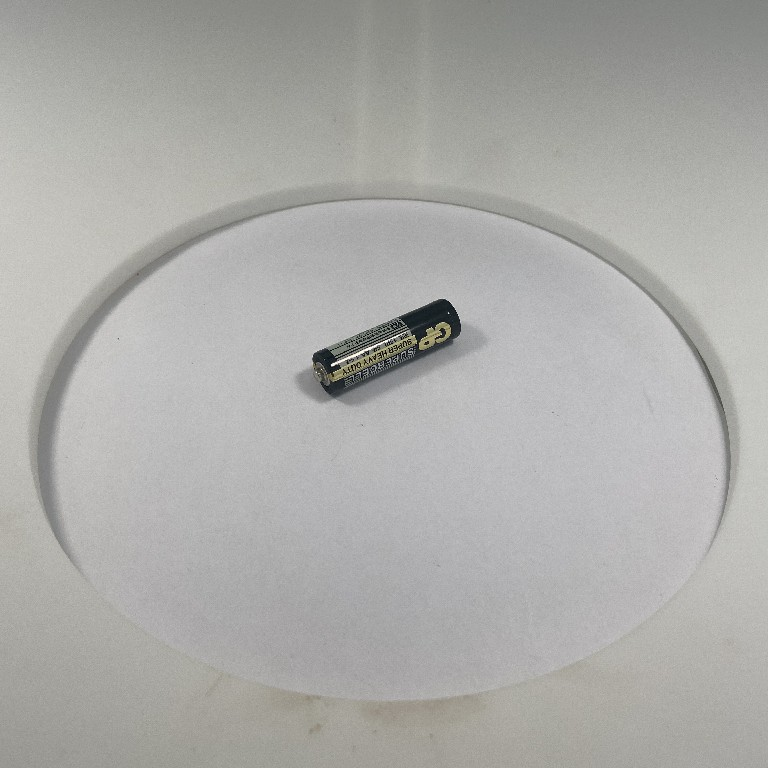charge: (305, 296, 464, 400)
